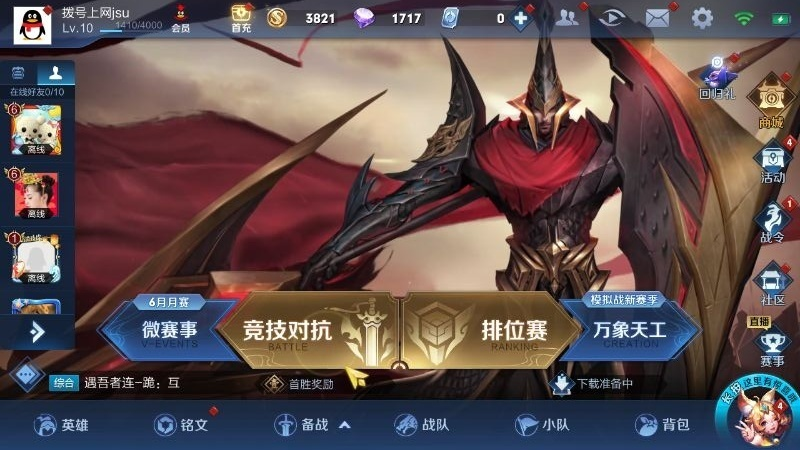kaishi: (241, 298, 333, 355)
obj_2400502955592: (593, 5, 629, 31)
tag: (237, 288, 392, 367), (4, 101, 64, 153), (736, 388, 778, 445), (148, 407, 182, 443), (508, 408, 542, 442), (628, 409, 660, 443), (387, 409, 421, 441), (759, 80, 787, 114), (29, 411, 59, 442), (642, 2, 672, 31), (760, 142, 787, 170), (435, 6, 464, 30), (688, 5, 713, 30), (552, 7, 579, 30)
